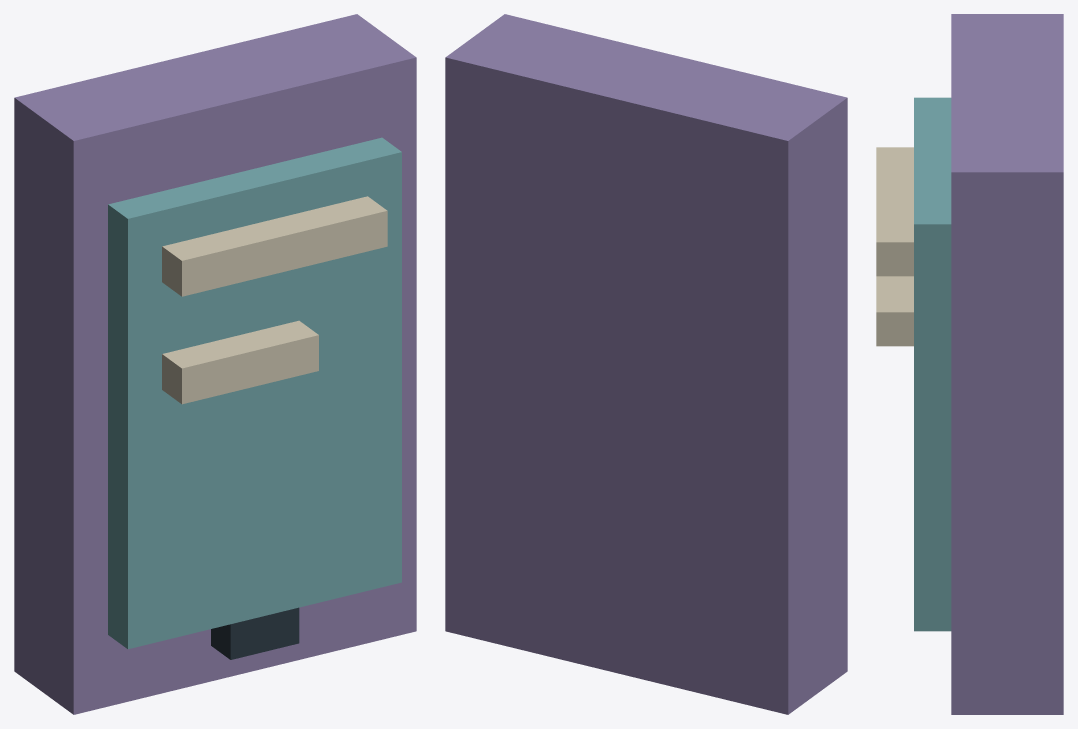
The model's file is social-18.glb.
The picture shows the model from 3 angles, left to right: view 1: azimuth 30°, elevation 25°; view 2: azimuth 150°, elevation 25°; view 3: azimuth 270°, elevation 25°; orthographic projection. The views are drawn at different scales.
Parts seen in each view (by area): view 1: Creator tablet; view 2: Creator tablet; view 3: Creator tablet.
Part boxes in pixels (x1=…): Creator tablet: x1=14, y1=14, x2=416, y2=714; Creator tablet: x1=445, y1=14, x2=847, y2=714; Creator tablet: x1=876, y1=14, x2=1063, y2=714.
Size of the model in its own units: 0.8 by 1.28 by 0.4.
